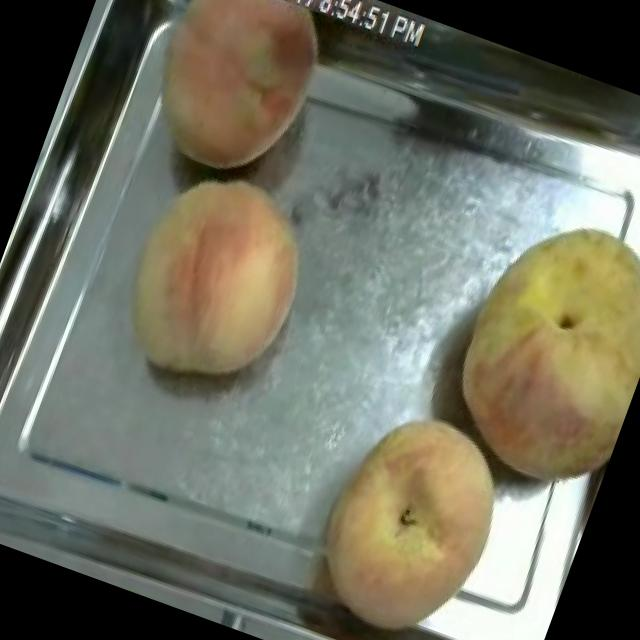Fruit: (414, 183, 640, 510), (90, 146, 338, 416), (284, 383, 536, 640), (116, 0, 350, 203)
